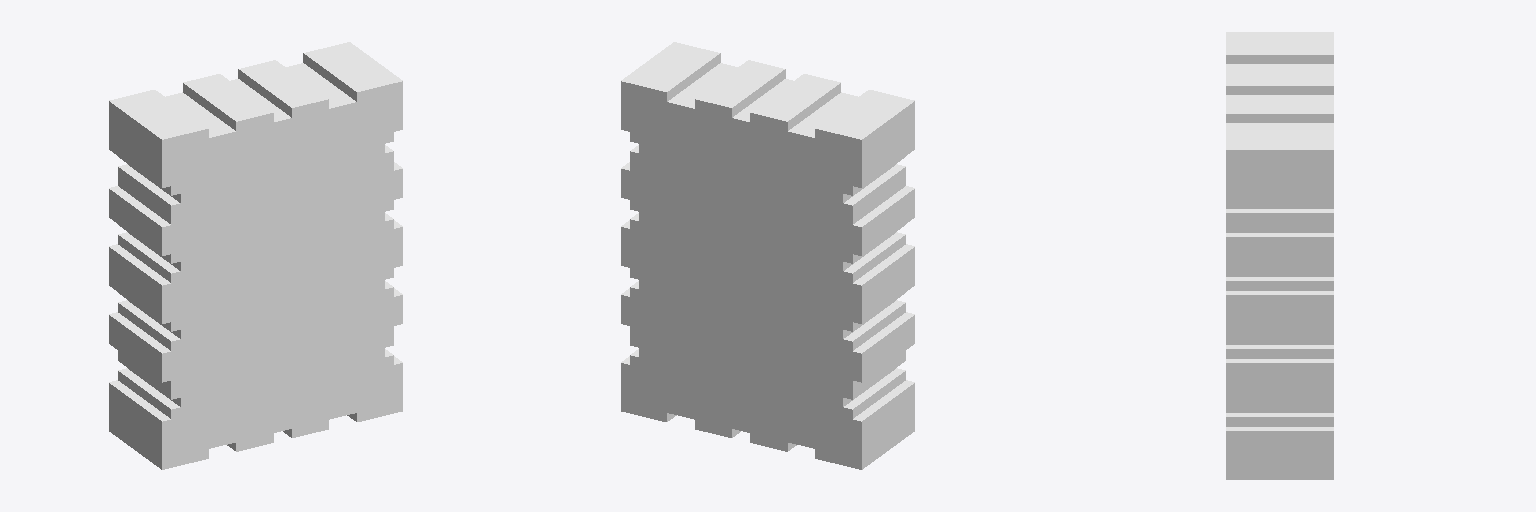
The model's file is thwomp.obj.
3 renders of one model, left to right at view 1: azimuth 30°, elevation 25°; view 2: azimuth 150°, elevation 25°; view 3: azimuth 270°, elevation 25°, orthographic.
Parts seen in each view (by area): view 1: thwomp; view 2: thwomp; view 3: thwomp.
Boxes of the visible parts, box(x1,y1,x2,y2) form: thwomp: box(109, 42, 402, 469); thwomp: box(621, 42, 914, 469); thwomp: box(1226, 32, 1333, 479).
Size of the model in its own units: 5.2 by 6.8 by 2.